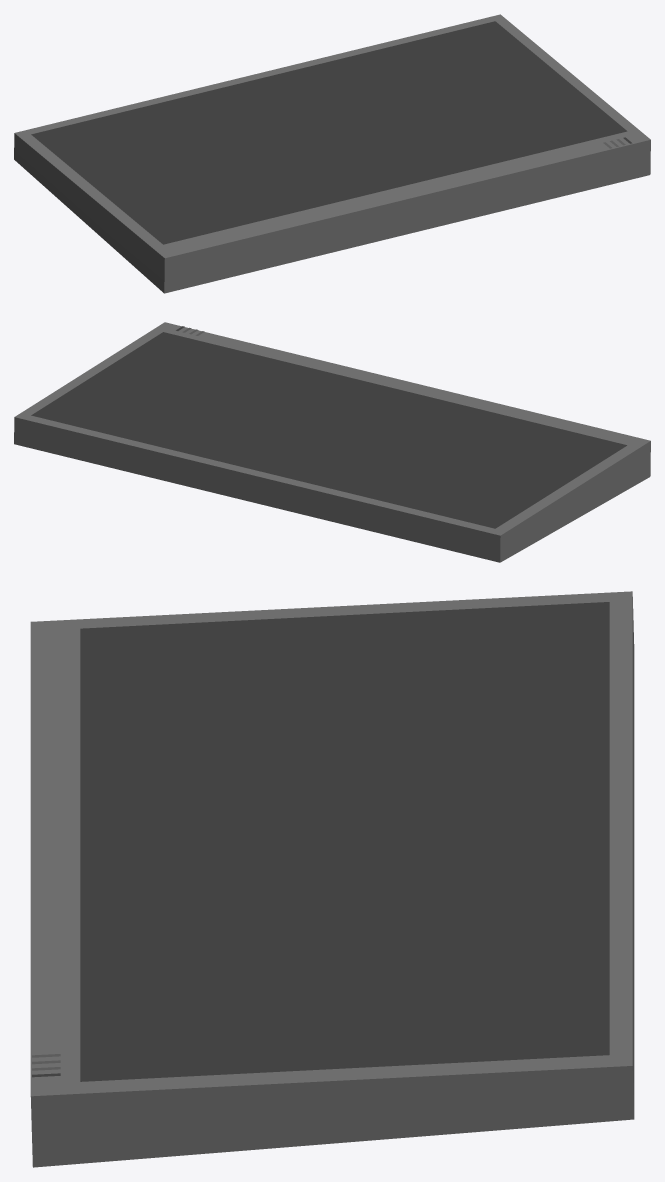
File: wall-screen.glb
3 renders of one model, top to bottom at view 1: azimuth 30°, elevation 25°; view 2: azimuth 150°, elevation 25°; view 3: azimuth 270°, elevation 25°, orthographic. The views are drawn at different scales.
Visible parts, largest first — view 1: electronics_034; view 2: electronics_034; view 3: electronics_034.
Part boxes in pixels (<box>): electronics_034: <box>14,14,650,293</box>; electronics_034: <box>14,322,650,562</box>; electronics_034: <box>30,591,634,1167</box>.
Size of the model in its own units: 1.48 by 0.1478 by 0.7933.
1 material, 1 textured.
